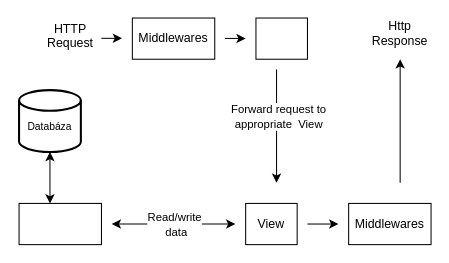
Some shapes in this 449 by 263 pixel diagram are drawn without their labels. Each missing label, with the centre of its shape:
"Model" belongs at (x=59, y=223).
"URLS" belongs at (x=281, y=38).
